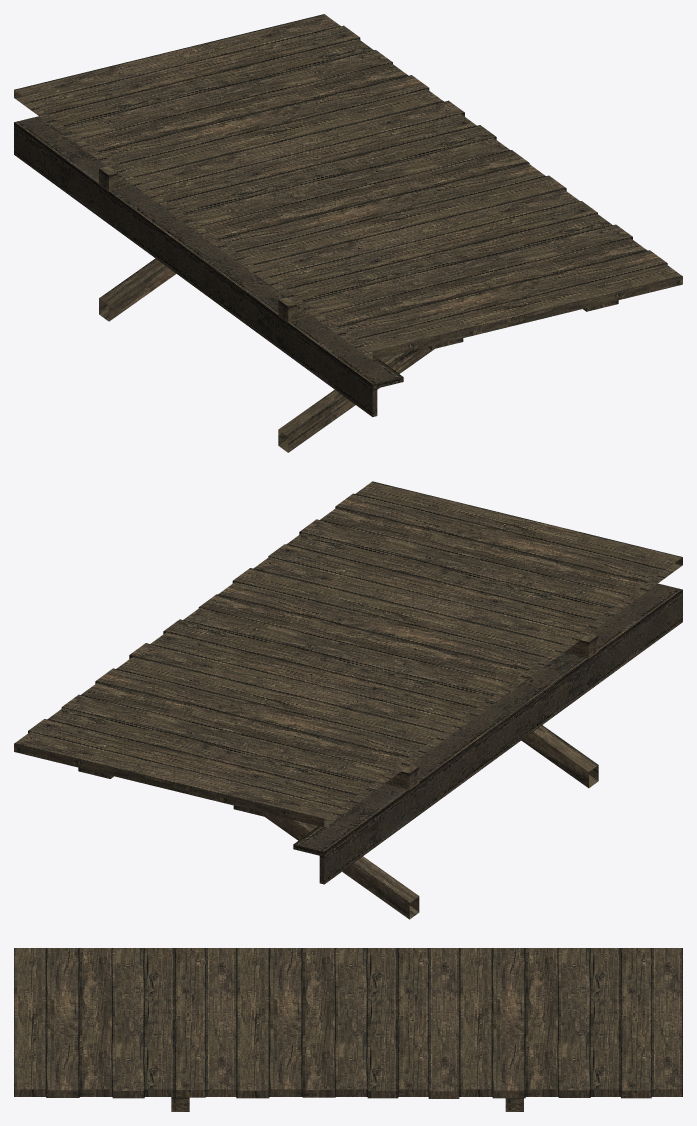
The model's file is platform_ax_1.glb.
3 views of the same model, one above another, from view 1: azimuth 30°, elevation 25°; view 2: azimuth 150°, elevation 25°; view 3: azimuth 270°, elevation 25° (orthographic). The views are drawn at different scales.
Parts seen in each view (by area): view 1: platform_ax_1; view 2: platform_ax_1; view 3: platform_ax_1.
Part boxes in pixels (x1=…): platform_ax_1: x1=14, y1=14, x2=682, y2=452; platform_ax_1: x1=14, y1=481, x2=682, y2=919; platform_ax_1: x1=14, y1=948, x2=682, y2=1111.
Size of the model in its own units: 2.03 by 1 by 4.
Materials: 2 (2 with a texture image).
